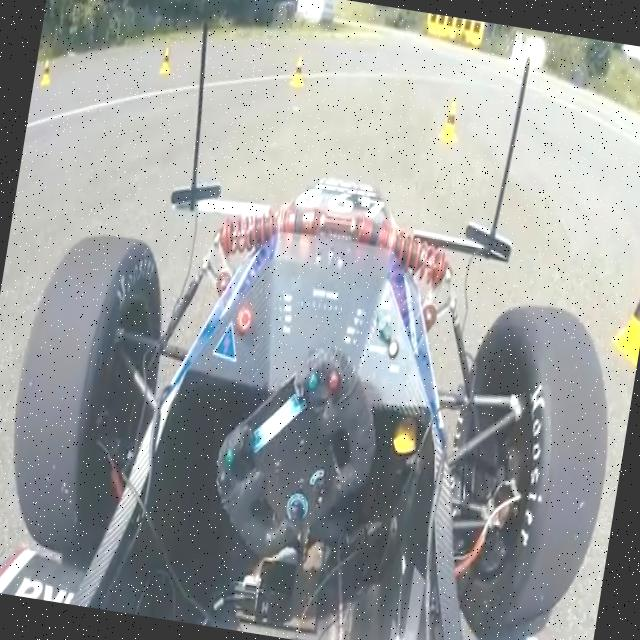yellow_cone: (609, 265, 640, 364), (438, 100, 463, 144), (289, 57, 308, 89), (40, 58, 54, 88), (159, 46, 173, 75)
